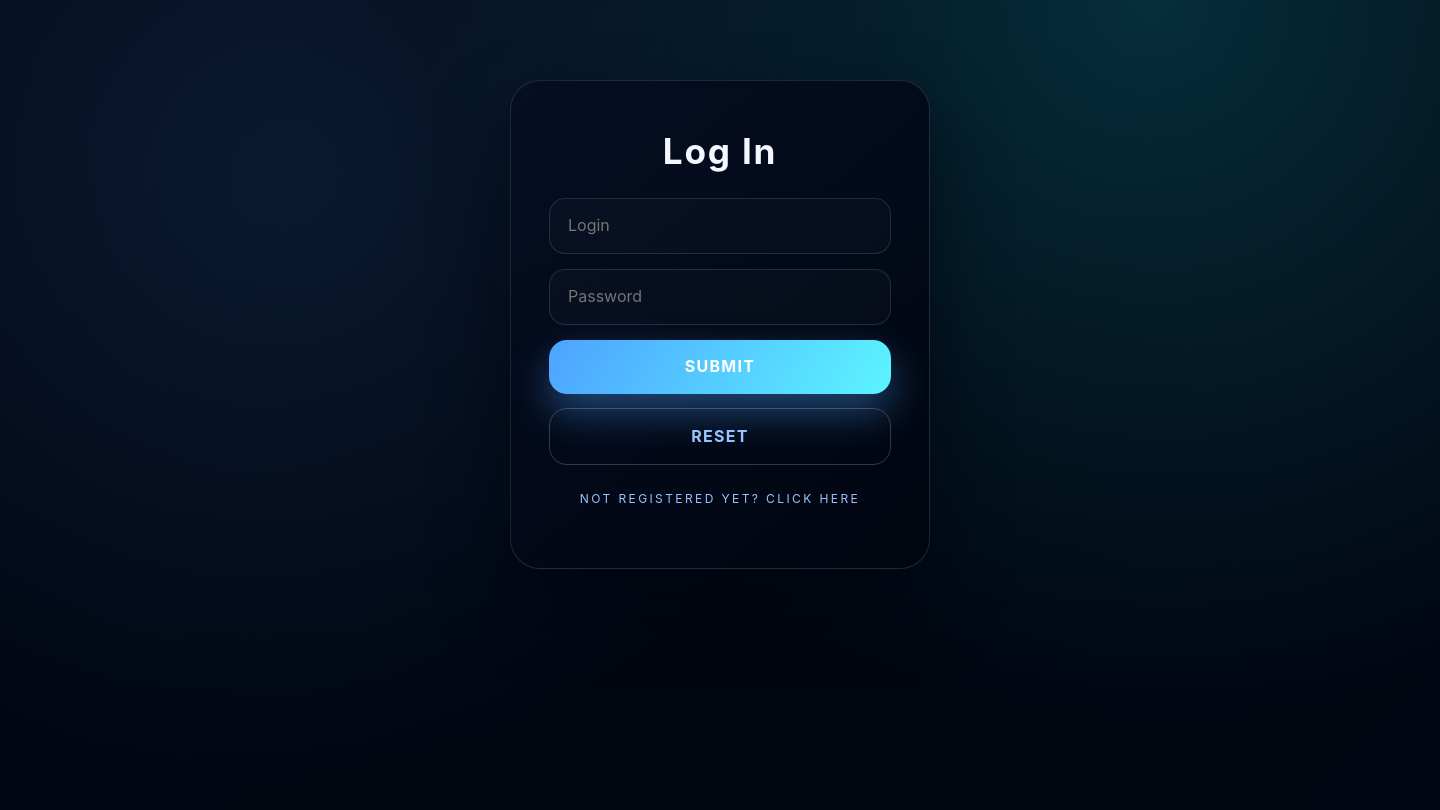
Login Component › shows default error message when error response is missing
Type "testuser" into the field with placeholder "Login".
click(720, 226); type("testuser")  # box [549,198,891,254]
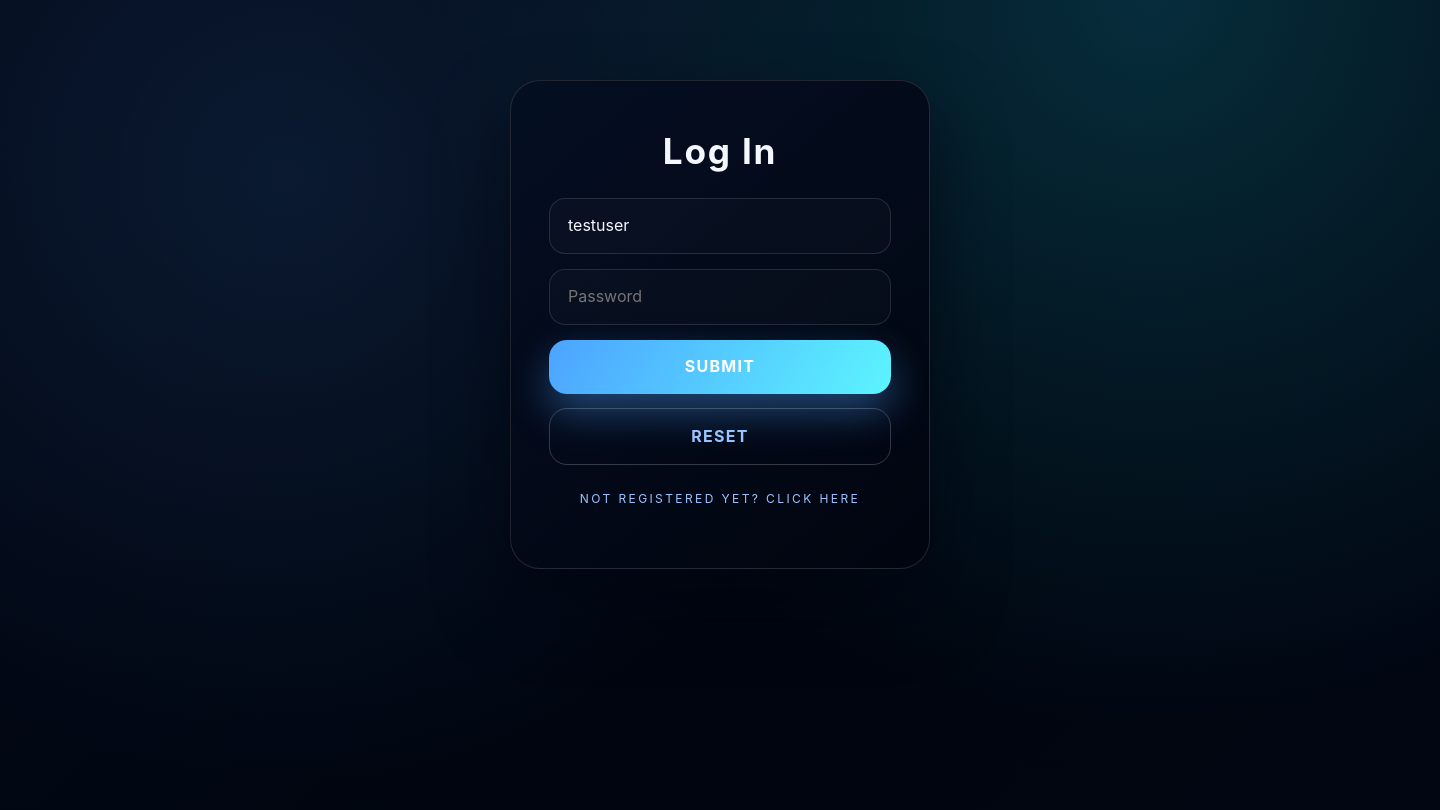
Type "testpass" into the password field with placeholder "Password".
click(720, 297); type("testpass")  # box [549,269,891,325]
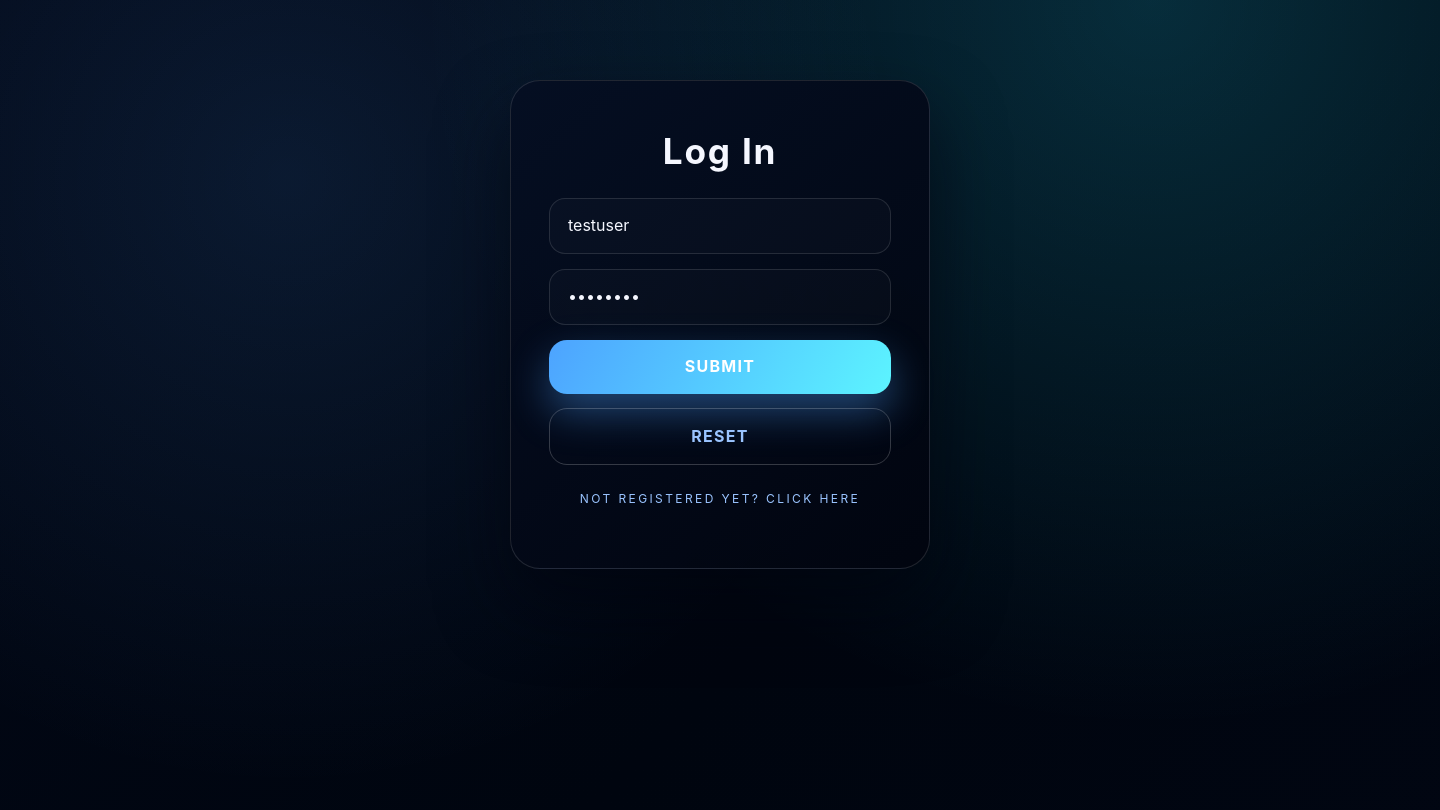
Click the button "Submit".
click(720, 367)  # box [549,340,891,394]
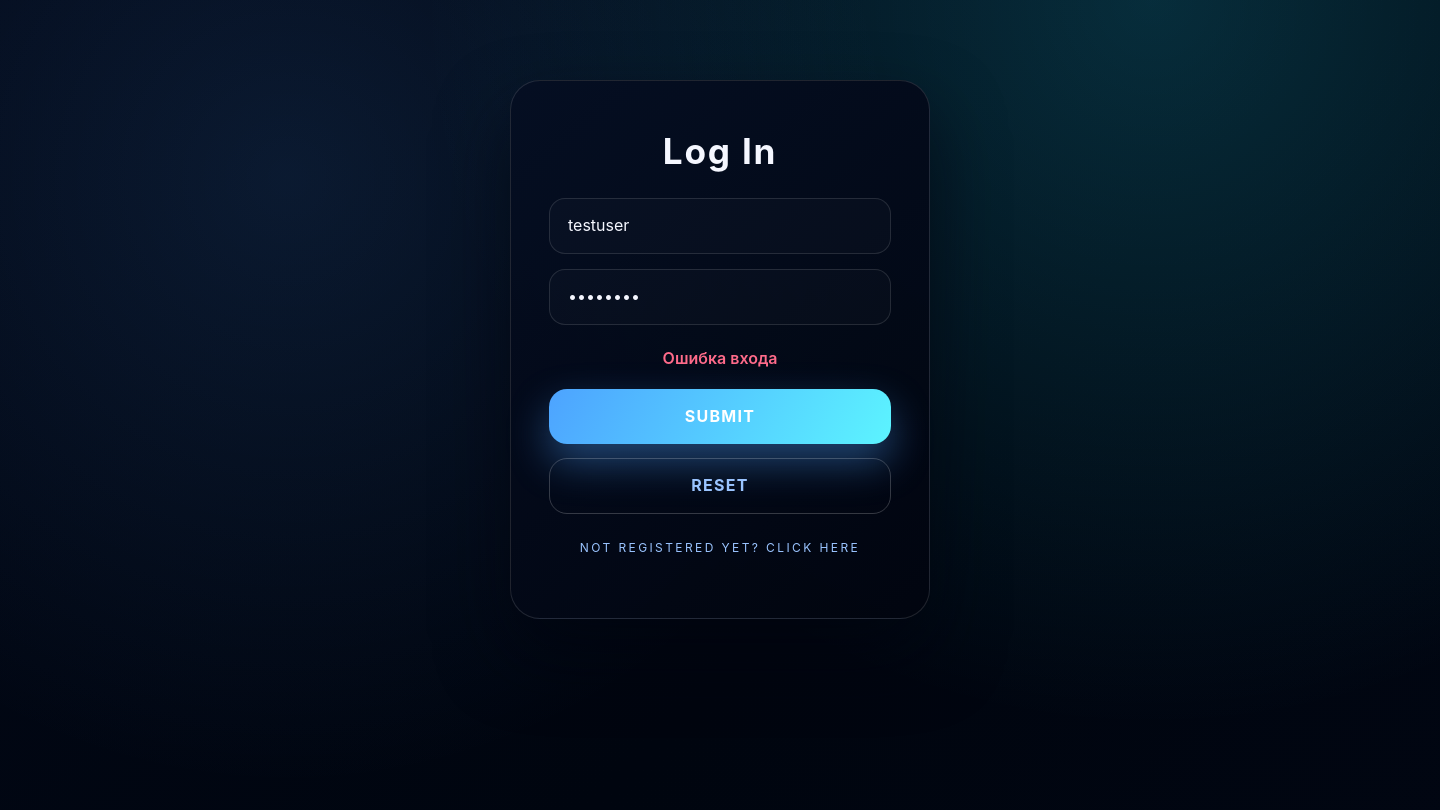
Expected: the text "Ошибка входа" is shown, [663,348,777,368]
